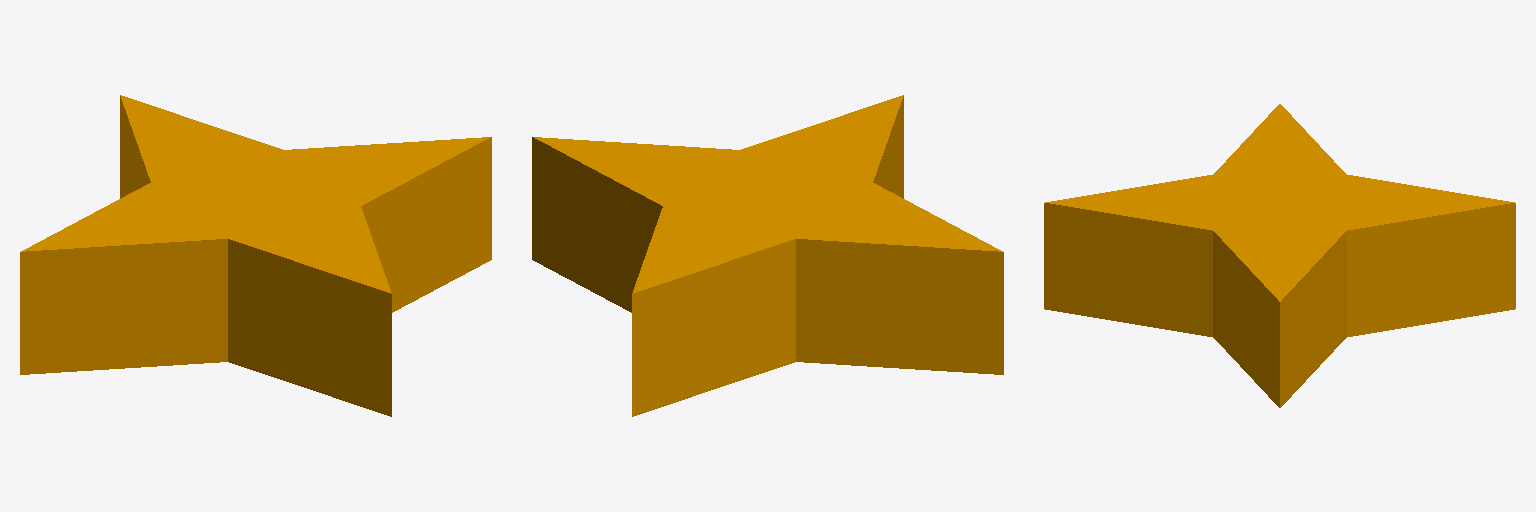
URDF robot description (star):
<?xml version="1.0" ?>
<robot name="star" version="1.0">
  <link name="base">
    <inertial>
      <origin xyz="0 0 0" rpy="0 0 0"/>
      <mass value="0.7069341838359833"/>
      <inertia ixx="0.0009971869703227227" ixy="-3.529303946892918e-20" ixz="-0.0" iyy="0.0009971869703227227" iyz="-0.0" izz="0.0016998180307137862"/>
    </inertial>
    <visual>
      <origin xyz="0 0 0" rpy="0 0 0"/>
      <geometry>
        <mesh filename="meshes/star.stl" scale="0.035 0.035 0.035"/>
      </geometry>
    </visual>
    <collision>
      <origin xyz="0 0 0" rpy="0 0 0"/>
      <geometry>
        <mesh filename="meshes/star.stl" scale="0.035 0.035 0.035"/>
      </geometry>
    </collision>
  </link>
</robot>

--- What the picture shows (computed from the rendered views, not written in the file) ---
Views: 3 orthographic renders of the robot side by side, from view 1: azimuth 30°, elevation 25°; view 2: azimuth 150°, elevation 25°; view 3: azimuth 270°, elevation 25°.
Model star with 1 links and 0 joints (none), rooted at base, posed every joint at zero.
Links seen in each view (by area): view 1: base; view 2: base; view 3: base.
Link boxes in pixels (x1=…): base: x1=20, y1=95, x2=491, y2=416; base: x1=532, y1=95, x2=1003, y2=416; base: x1=1044, y1=104, x2=1515, y2=407.
Size in the robot's own frame: 0.07 by 0.07 by 0.0175 metres.
1 mesh visuals loaded from 1 distinct referenced files (1 binary STL).
